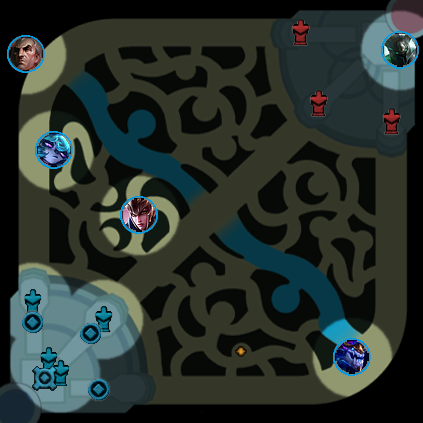AurelionSol: (333, 338, 371, 376)
Mordekaiser: (381, 31, 419, 69)
Quinn: (120, 196, 158, 234)
Swain: (7, 35, 45, 73)
Vex: (35, 131, 73, 169)
